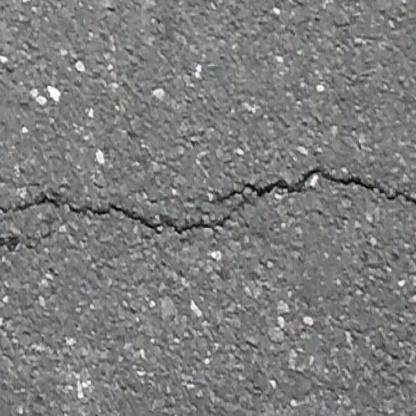Cracks: (0, 166, 416, 240), (0, 233, 22, 256)
